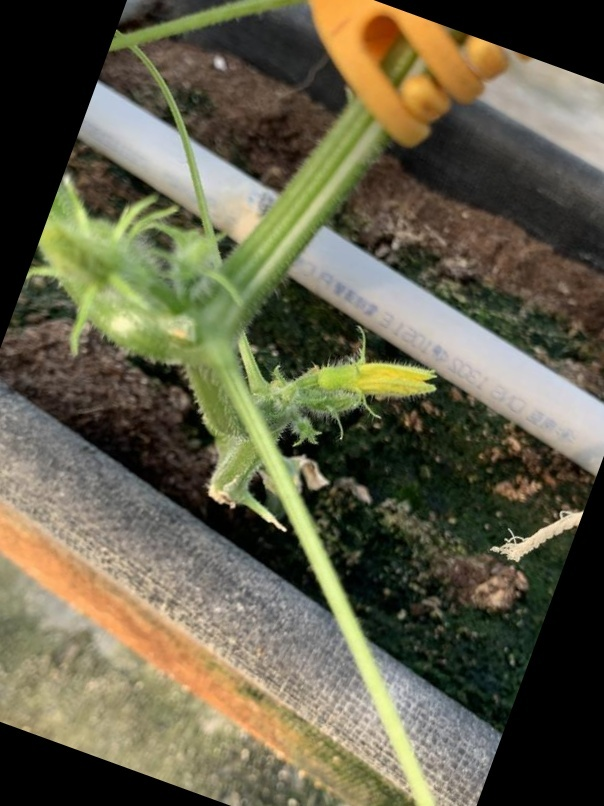bud: (296, 357, 438, 417)
